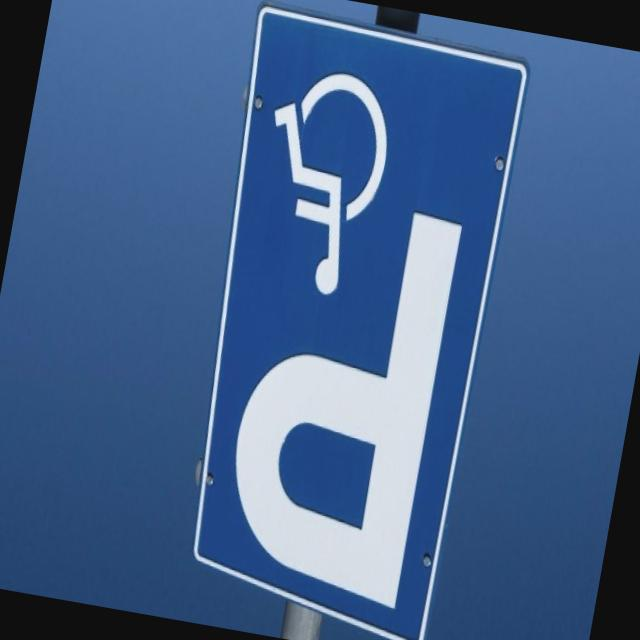symbol_of_access: (237, 44, 416, 317)
